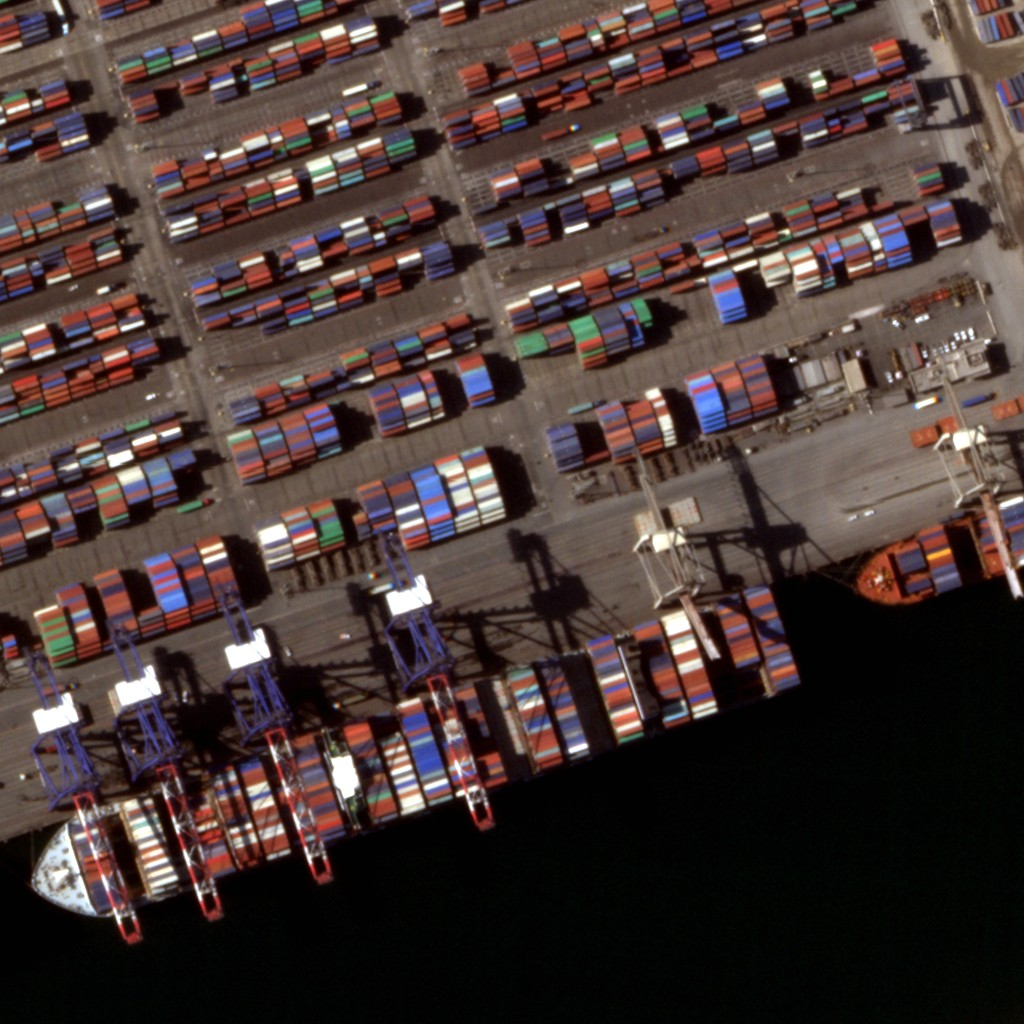boats: (40, 584, 798, 922), (856, 512, 992, 614)
cranes: (354, 579, 506, 833), (106, 678, 222, 922), (28, 702, 147, 938), (230, 635, 334, 880), (632, 489, 734, 681), (939, 421, 1021, 601)
